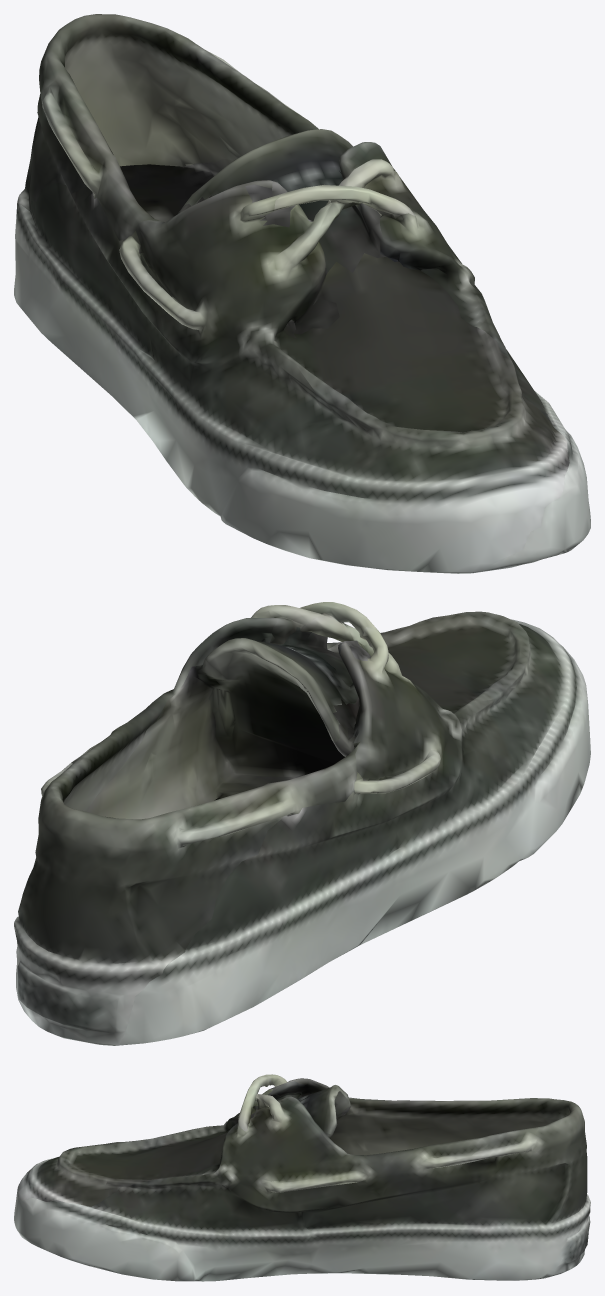
Rendered from Womens_Canvas_Bahama_in_Black_vnJULsDVyq5-high.glb.
3 renders of one model, top to bottom at view 1: azimuth 30°, elevation 25°; view 2: azimuth 150°, elevation 25°; view 3: azimuth 270°, elevation 25°, orthographic. The views are drawn at different scales.
Parts seen in each view (by area): view 1: Womens_Canvas_Bahama_in_Black_vnJULsDVyq5; view 2: Womens_Canvas_Bahama_in_Black_vnJULsDVyq5; view 3: Womens_Canvas_Bahama_in_Black_vnJULsDVyq5.
Part boxes in pixels (bbox=[...]): Womens_Canvas_Bahama_in_Black_vnJULsDVyq5: bbox=[14, 14, 590, 573]; Womens_Canvas_Bahama_in_Black_vnJULsDVyq5: bbox=[14, 602, 590, 1045]; Womens_Canvas_Bahama_in_Black_vnJULsDVyq5: bbox=[14, 1074, 590, 1281].
Size of the model in its own units: 0.086 by 0.0776 by 0.2437.
Materials: 1 (1 with a texture image).
